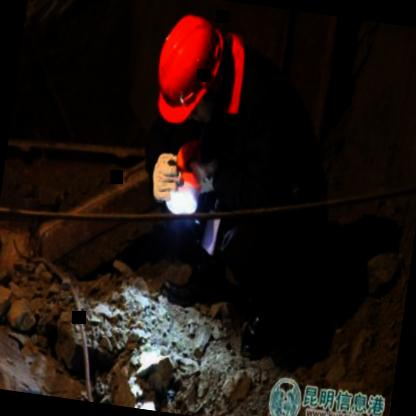helmet: (143, 3, 240, 128)
